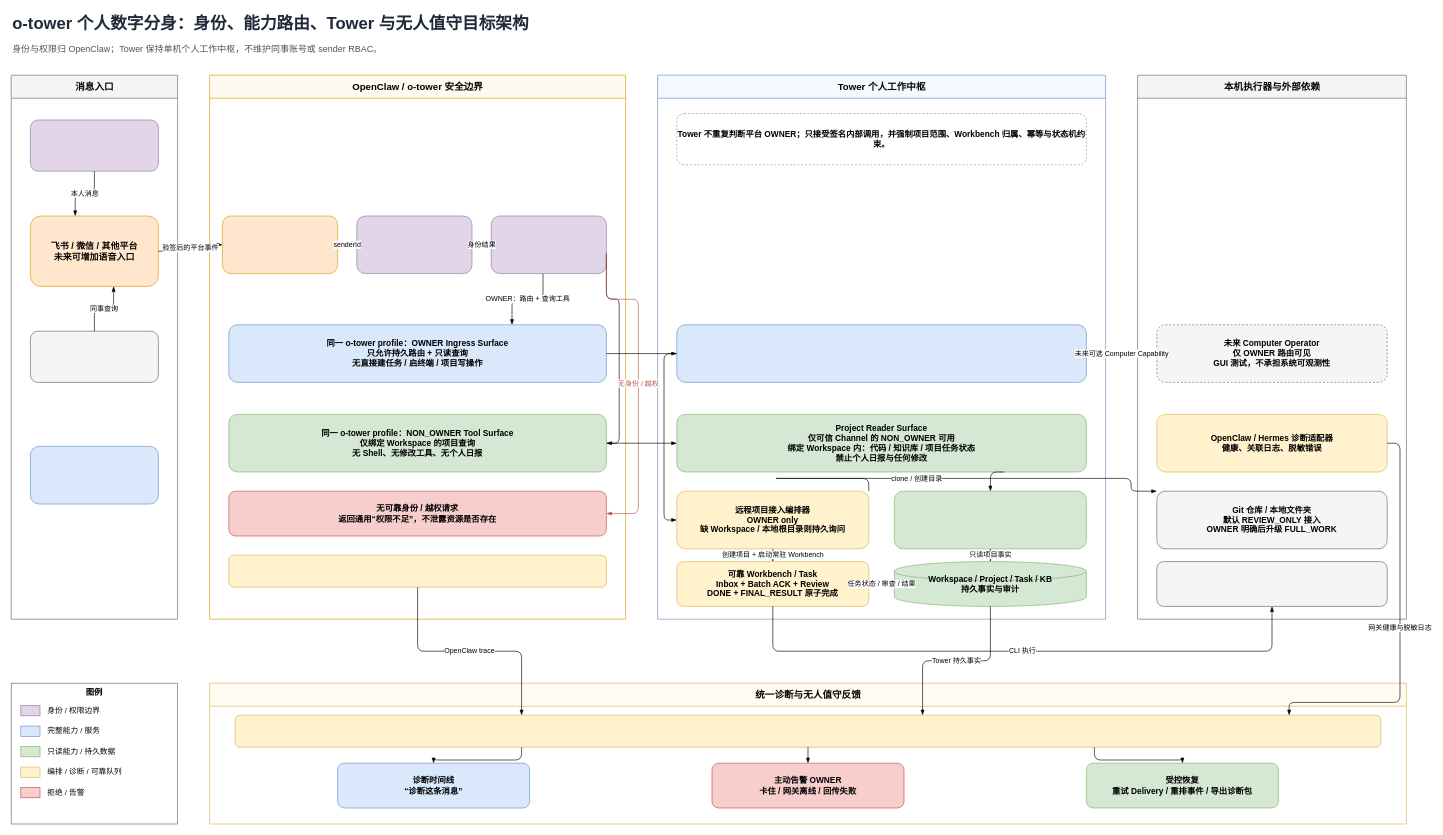
Some shapes in this 1443 by 835 pixel diagram are drawn without their labels. The centre of each missing label's shape, as x and y in pixels:
Claude / Codex / 其他 CLI 任务终端: the point at 1271,583
Identity + Trusted Channel Policy 稳定 ID 判 OWNER；chatId 判可信入口: the point at 414,244
Owner Control Plane 查询可在入口完成；写操作全部入 Workbench 执行、恢复、诊断与审批均有持久归属: the point at 881,353
Trace Capture Bus：requestId / platformMessageId / taskId / batchId / deliveryId: the point at 808,731
同事 / 其他发送者 NON_OWNER: the point at 94,356
平台适配器 验签 + 真实 senderId / chatId: the point at 280,244
机器人持有人 OWNER: the point at 94,145
结构化 Trace Emit sender 决策 / 路由 / 工具调用 / 外部错误: the point at 417,571
统一回复原会话 卡片 / 文本 / 未来 TTS: the point at 94,475
能力路由器 代码级策略 + Tool Allowlist: the point at 548,244
项目只读讨论与查询 Workspace 绑定范围 项目级回答，不暴露个人聚合信息: the point at 990,520
